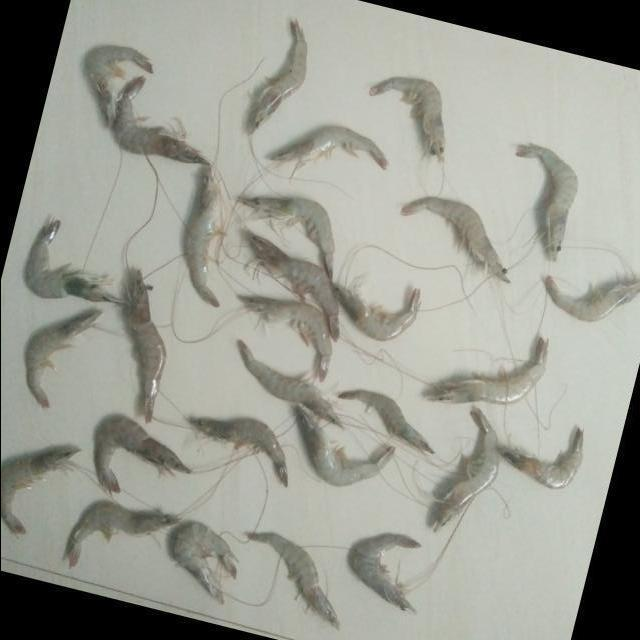shrimp: (246, 230, 339, 341), (237, 339, 343, 428), (401, 197, 509, 282), (247, 533, 339, 630), (111, 76, 209, 165), (24, 220, 124, 305), (433, 407, 499, 533), (427, 337, 549, 405), (296, 406, 395, 487), (239, 295, 331, 381), (238, 196, 334, 278), (94, 415, 190, 495), (24, 309, 101, 408), (66, 501, 179, 567), (516, 143, 578, 260), (0, 447, 79, 535), (246, 19, 306, 132), (189, 418, 287, 487), (370, 76, 445, 162), (338, 390, 434, 454), (270, 125, 388, 176), (127, 269, 165, 423), (349, 534, 421, 614), (83, 44, 151, 127), (184, 166, 223, 306), (172, 523, 237, 604), (498, 428, 584, 489), (332, 283, 420, 341), (545, 275, 640, 322)
